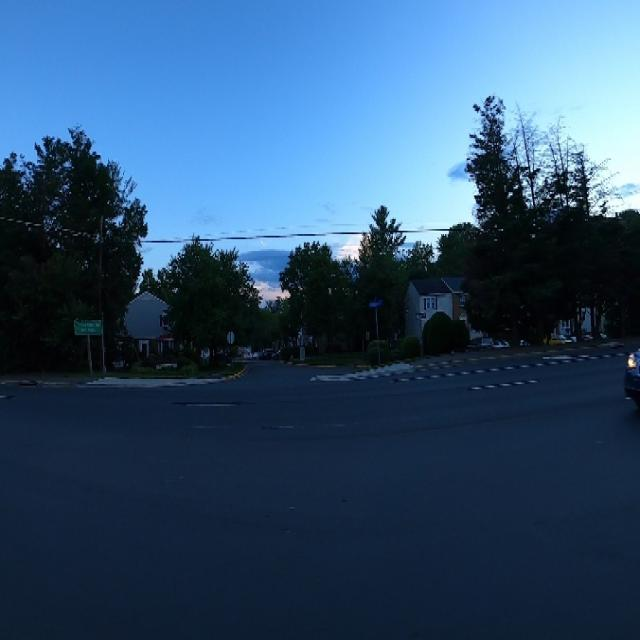cars: (623, 338, 640, 414), (548, 329, 572, 352), (242, 349, 255, 361)
